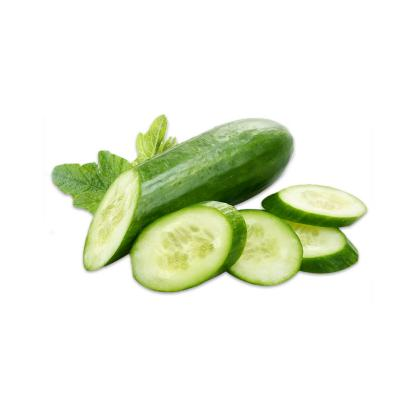--: (81, 112, 302, 272), (132, 198, 250, 296), (261, 182, 378, 229)
